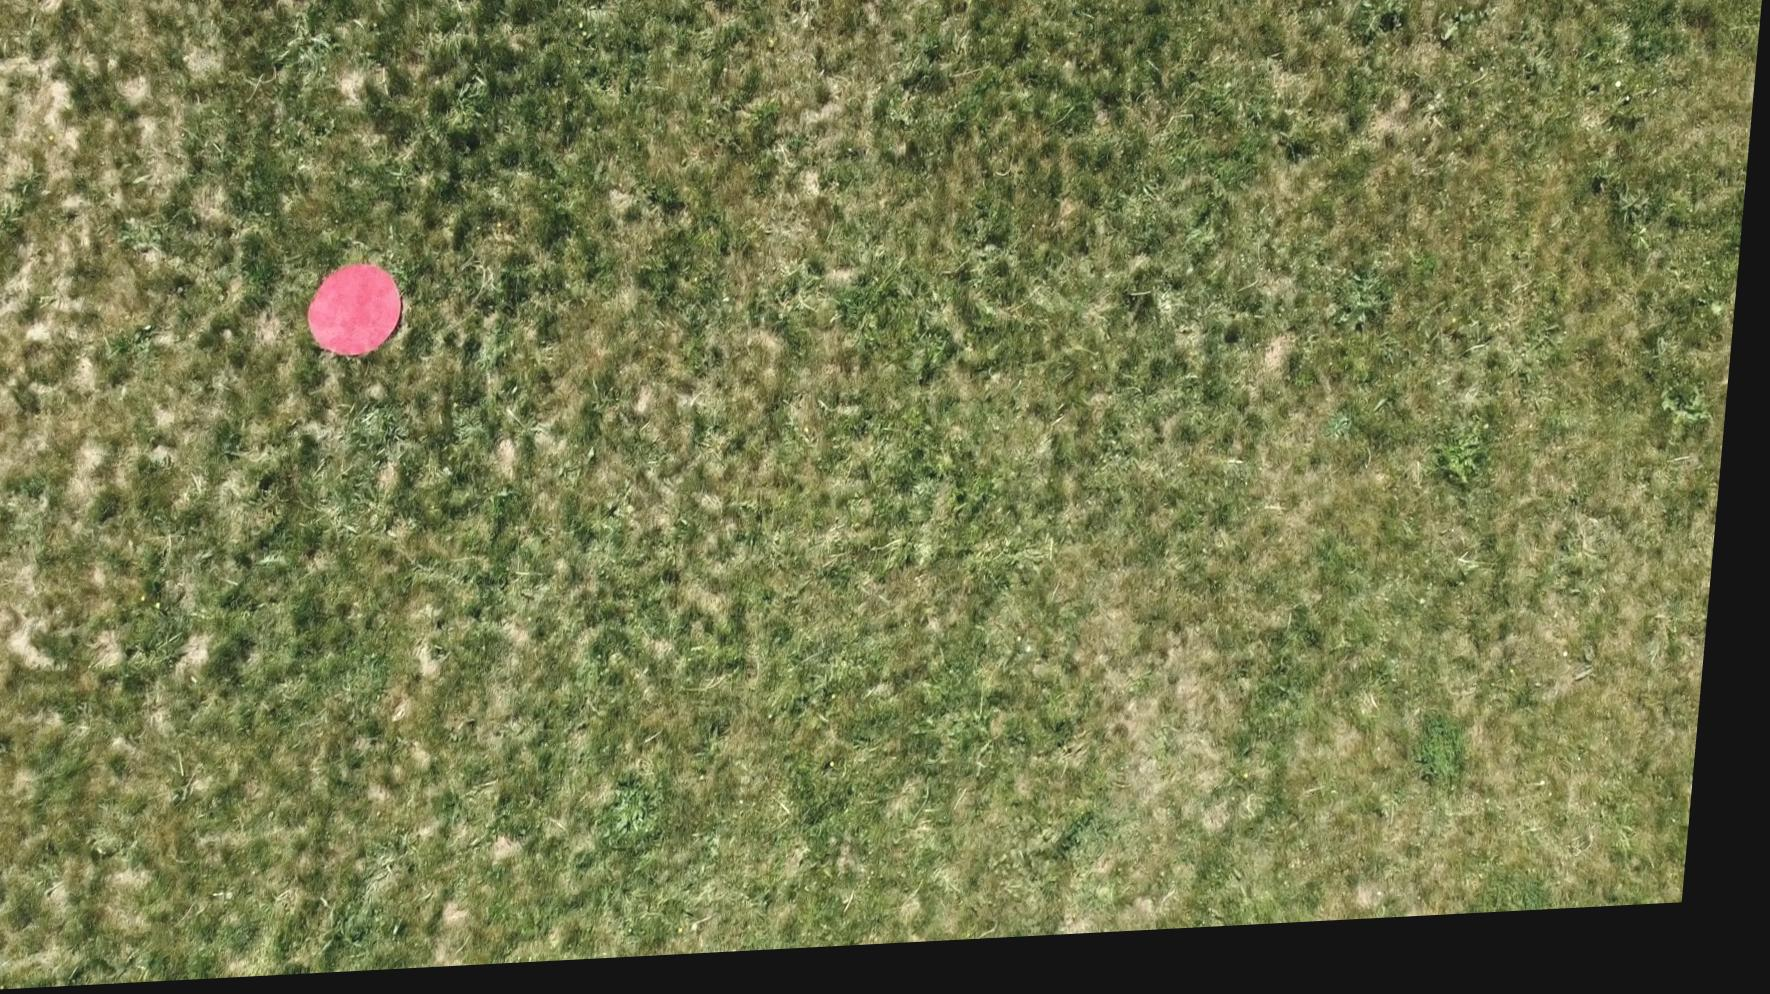Red: (306, 264, 417, 368)
